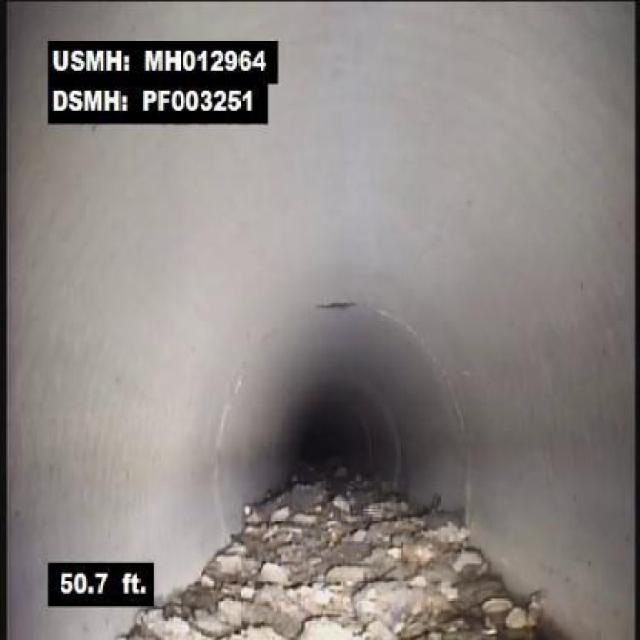Obstacle: (320, 464, 565, 638), (127, 474, 316, 638)
